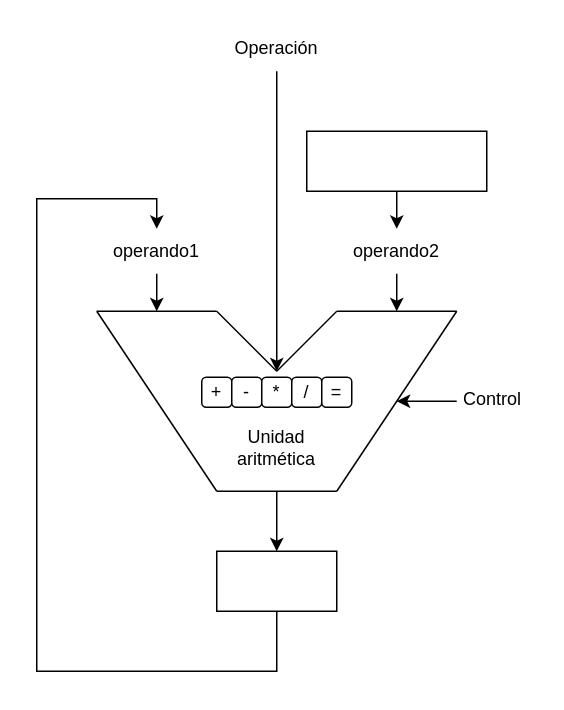
Image size: 564x710. Some labels were removed from this diagram. The shapes that lost their labels are listed below. From the top down, each one's centre as x and y in pixels, then its label:
At point 396,160: "Entrada usuario por teclado".
At point 276,580: "Acumulador".
